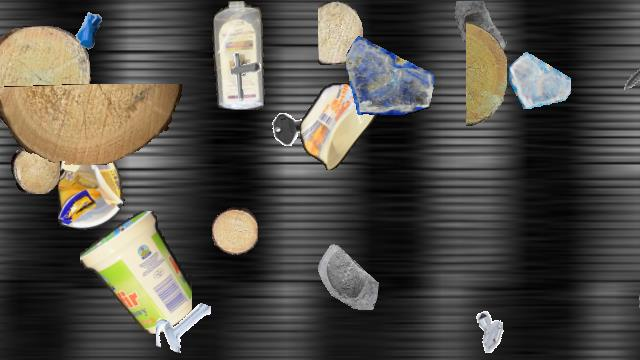glass: (346, 29, 434, 117), (305, 235, 379, 309), (451, 1, 515, 65), (509, 47, 571, 109)
metal: (61, 1, 115, 55), (156, 298, 210, 352), (216, 49, 270, 103), (470, 308, 514, 352), (270, 107, 312, 149), (617, 45, 640, 99)
plastic: (80, 211, 192, 335), (300, 83, 378, 169), (58, 132, 126, 230), (210, 1, 268, 109), (639, 157, 640, 359)
wood: (0, 84, 183, 164), (0, 26, 90, 130), (466, 22, 506, 126), (318, 1, 362, 65), (11, 145, 59, 193), (212, 207, 258, 255)
